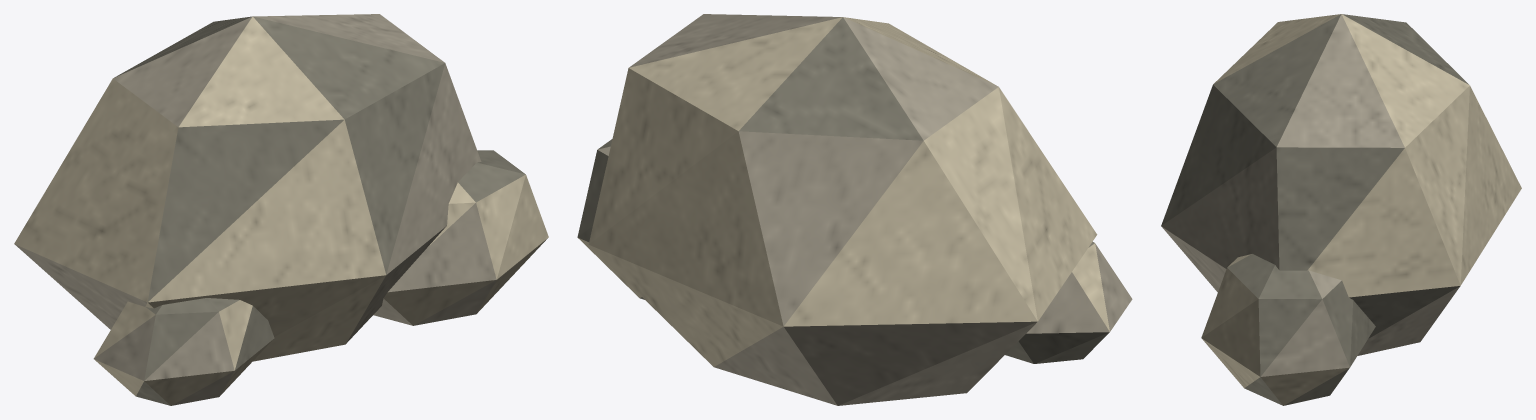
File: roca.glb
3 views of the same model, side by side, from view 1: azimuth 30°, elevation 25°; view 2: azimuth 150°, elevation 25°; view 3: azimuth 270°, elevation 25° (orthographic). The views are drawn at different scales.
Visible parts, largest first — view 1: roca; view 2: roca; view 3: roca.
Boxes of the visible parts, left/top/right/bottom form: roca: left=14, top=14, right=548, bottom=405; roca: left=577, top=14, right=1132, bottom=405; roca: left=1161, top=14, right=1521, bottom=405.
Size of the model in its own units: 3.05 by 1.91 by 2.14.
Materials: 1 (1 with a texture image).
